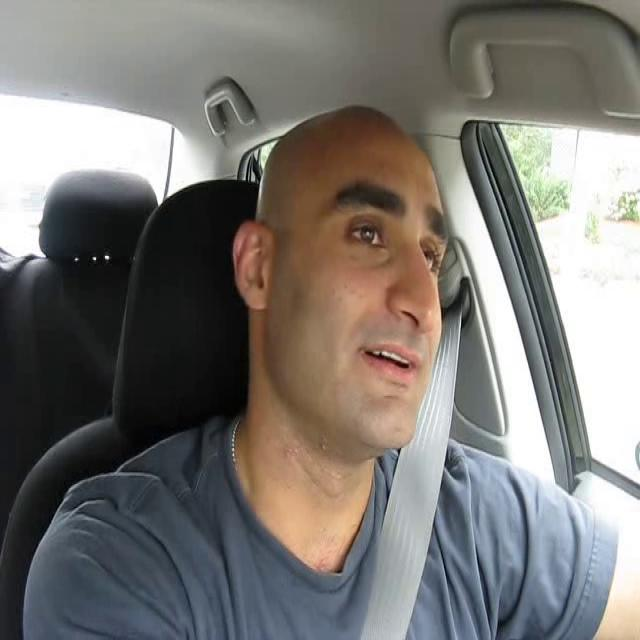close: (356, 341, 433, 385)
